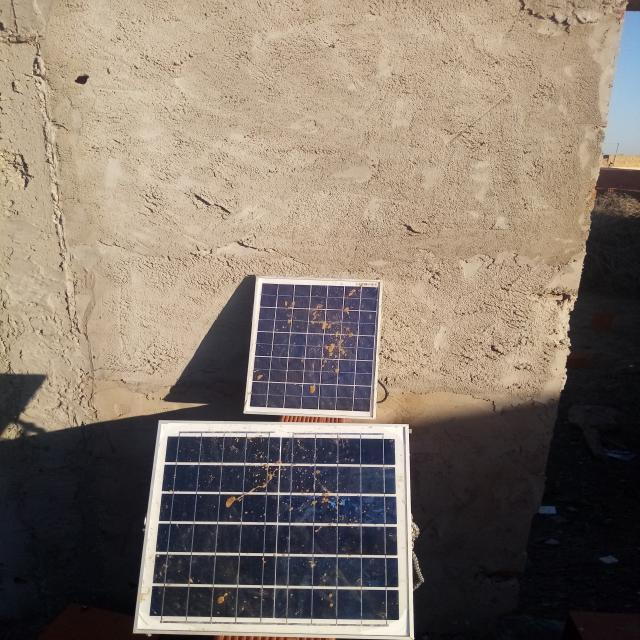faulty: (135, 422, 412, 639), (244, 276, 382, 419)
